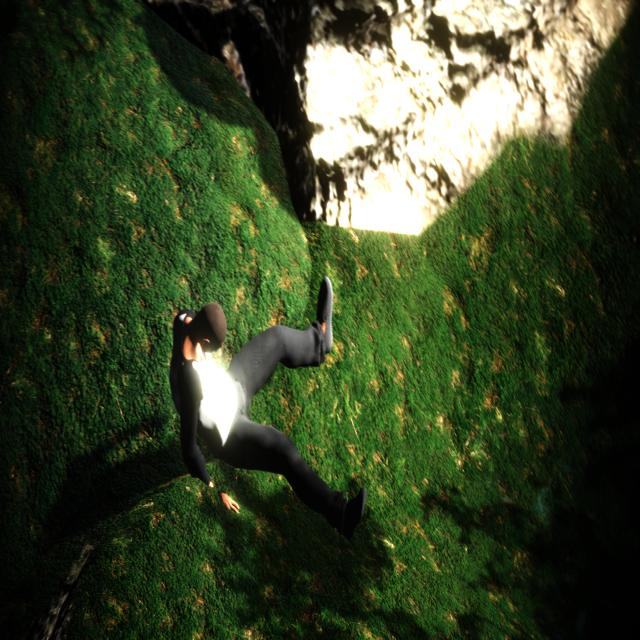Human: (160, 268, 370, 582)
